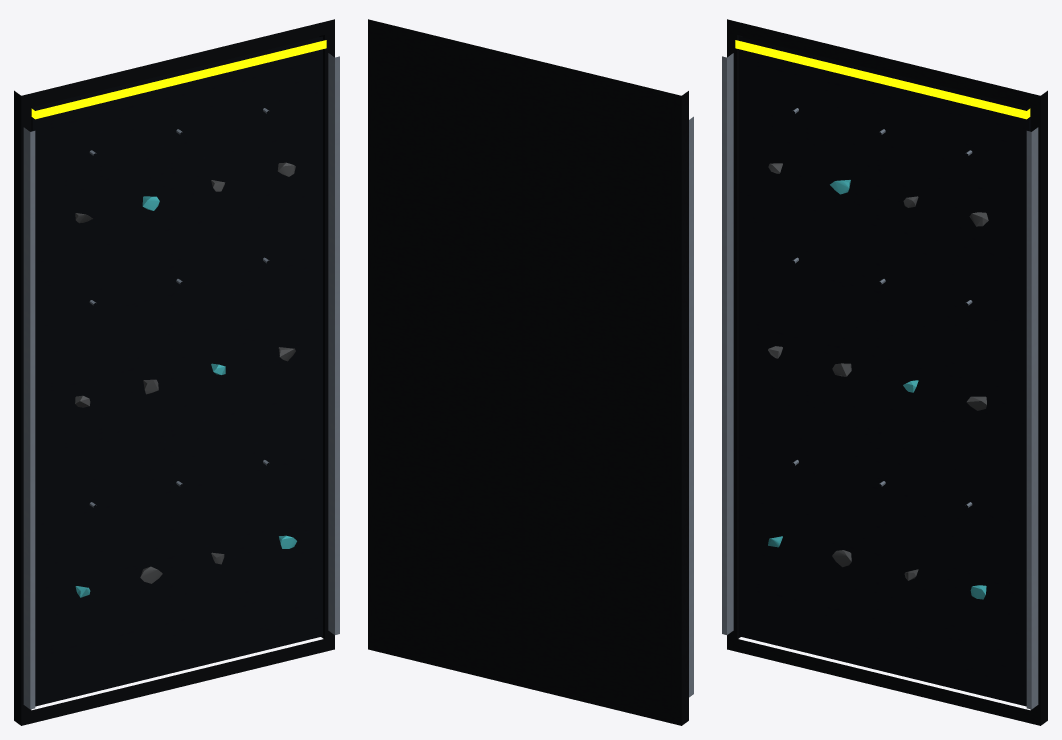
Rendered from tt_climb_train_board.glb.
The picture shows the model from 3 angles, left to right: view 1: azimuth 30°, elevation 25°; view 2: azimuth 150°, elevation 25°; view 3: azimuth 330°, elevation 25°; orthographic projection.
Visible parts, largest first — view 1: Spray_Face, Frame, Side_Trim, Top_LED, Holds_Rubber, Holds_Teal; view 2: Frame, Side_Trim; view 3: Spray_Face, Frame, Side_Trim, Top_LED, Holds_Rubber, Holds_Teal.
Boxes of the visible parts, x1,y1,x2,y2 form: Spray_Face: (31,36,322,706); Frame: (14,19,334,725); Side_Trim: (23,53,339,709); Top_LED: (31,40,326,119); Holds_Rubber: (75,162,295,583); Holds_Teal: (75,196,296,597); Frame: (368,19,688,725); Side_Trim: (689,116,693,697); Spray_Face: (739,36,1030,706); Frame: (727,19,1047,725); Side_Trim: (722,53,1038,709); Top_LED: (735,40,1030,119); Holds_Rubber: (768,163,988,580); Holds_Teal: (768,180,986,599).
Size of what is drawn, in the model's own units: 1.25 by 2.4 by 0.1177.
7 materials, 4 textured.
